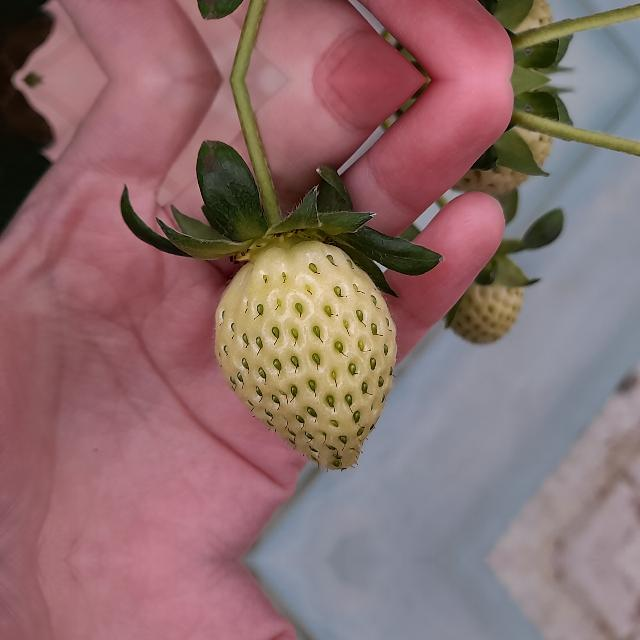Health_25: (214, 240, 396, 470)
